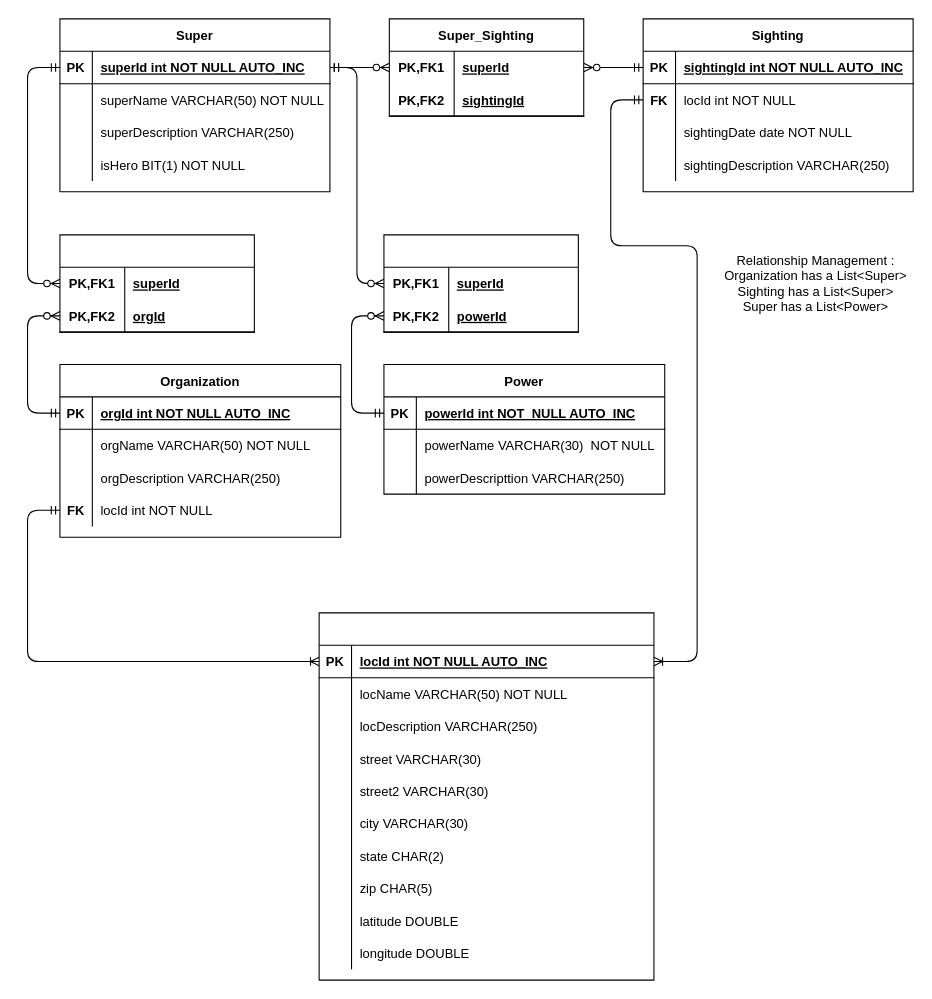
This 932x999 diagram has some shape labels left out. Each missing label, with the box of its shape:
Location: (318, 612, 654, 980)
Super_Organization: (59, 234, 254, 332)
Super_Power: (383, 234, 578, 332)
